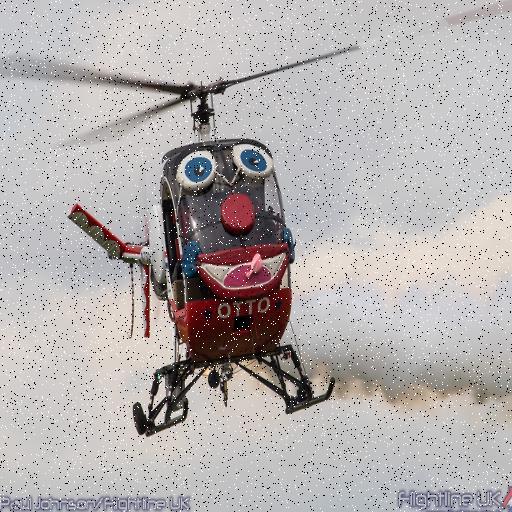helicopter: (5, 50, 363, 420)
